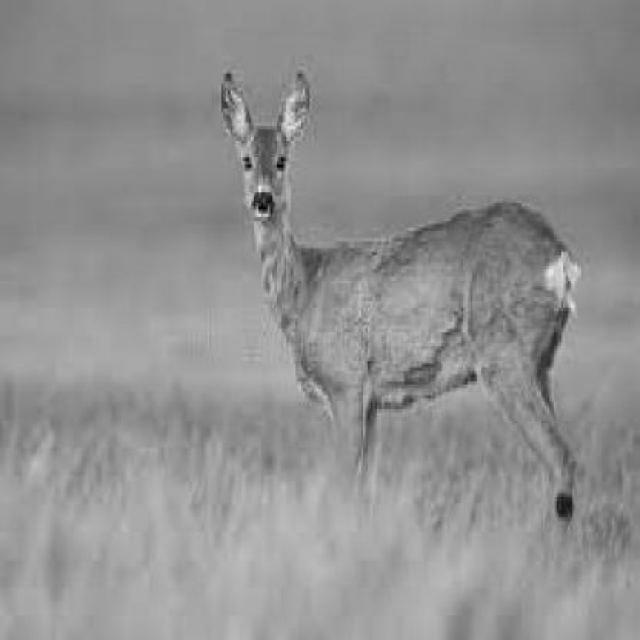Deer: (205, 56, 593, 544)
